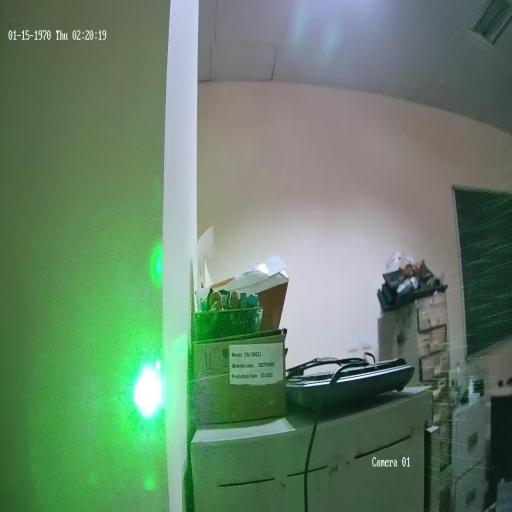laser: (130, 353, 168, 423)
